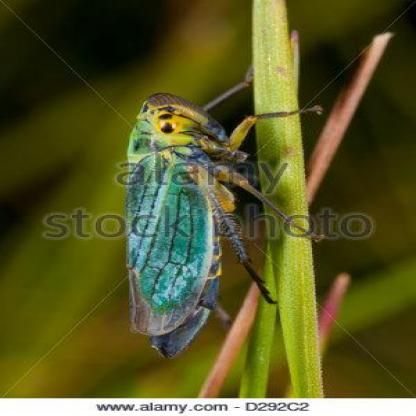Green-Leafhopper: (118, 74, 347, 360)
